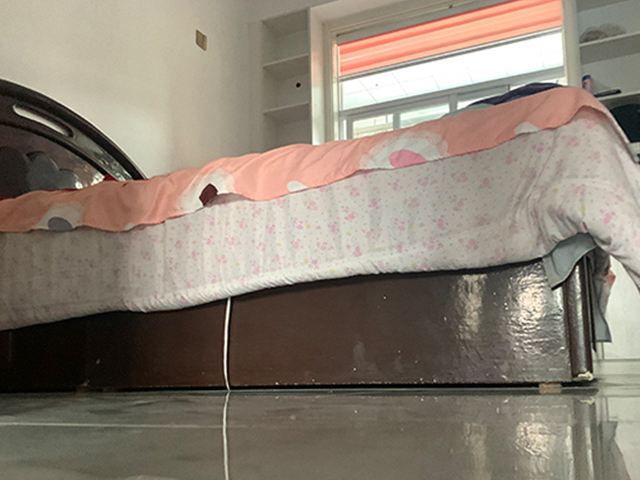bed: (1, 78, 640, 394)
